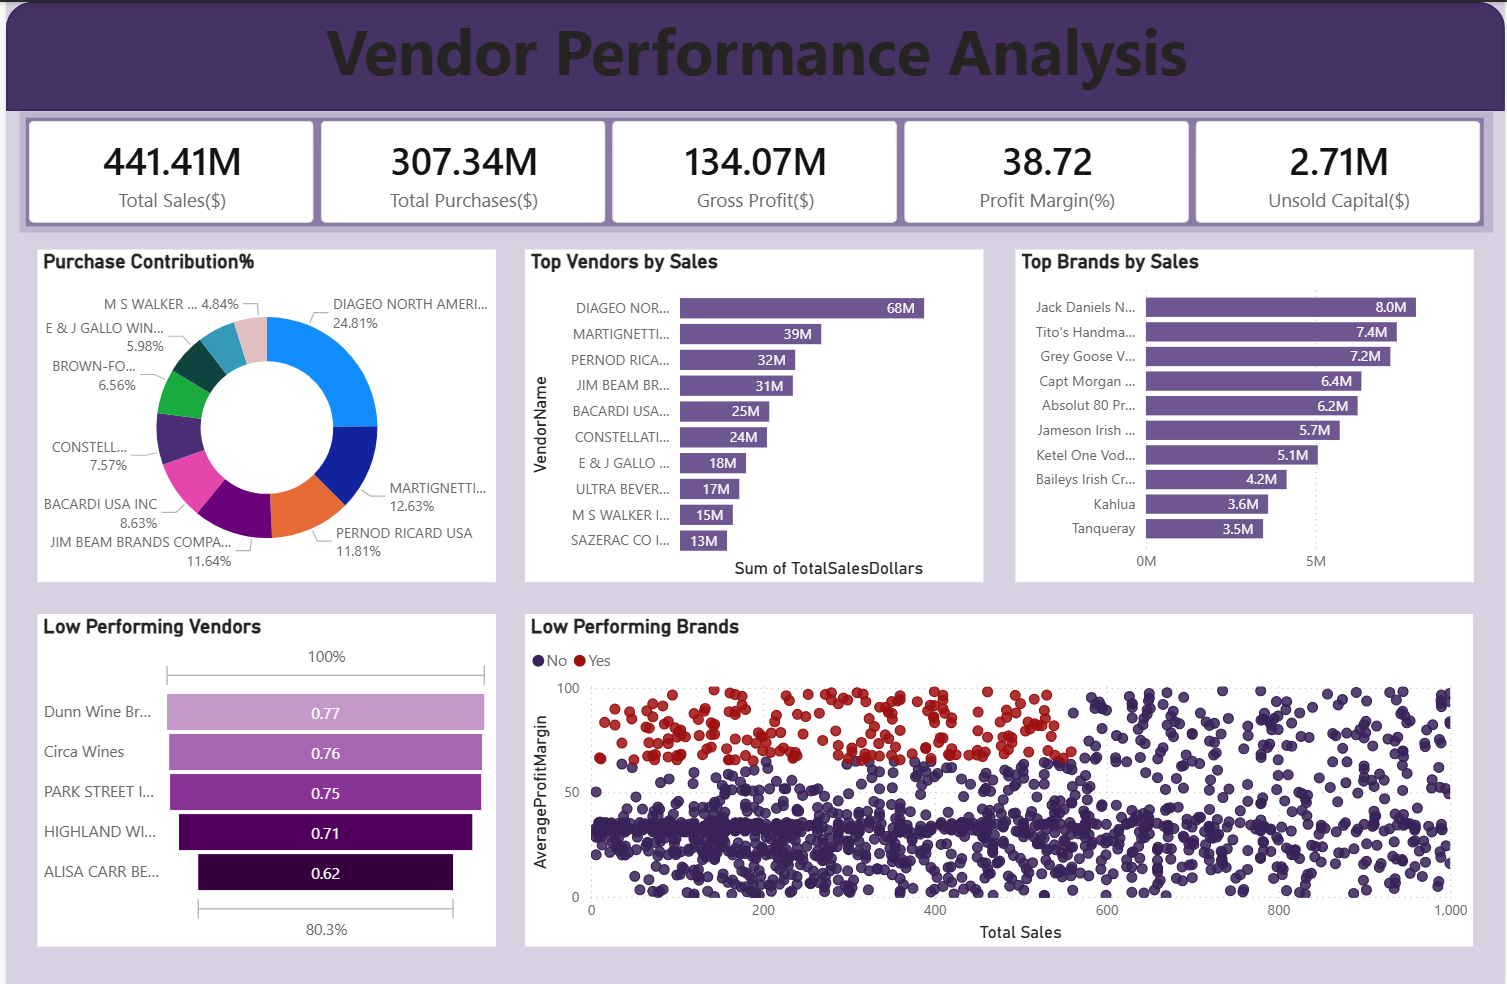

The dashboard page shown, as its layout file describes it:
{"tool":"powerbi","page":{"name":"Page 1","canvas":[1280,840],"ordinal":0},"visuals":[{"type":"cardVisual","fields":{"Data":["Sum(vendor_sales_summary.TotalSalesDollars)","Sum(vendor_sales_summary.TotalPurchaseDollars)","Sum(vendor_sales_summary.GrossProfit)","Avg(vendor_sales_summary.ProfitMargin)","Sum(vendor_sales_summary.UnsoldCapital)"]},"box":[11.5,93.3,1258,103.4],"z":0},{"type":"shape","box":[0,0,1279.6,93],"z":1000},{"type":"textbox","box":[27.8,0,1225.2,93],"z":2000},{"type":"donutChart","title":"Purchase Contribution% ","fields":{"Y":["Sum(PurchaseContribution.PurchaseContribution%)"],"Category":["PurchaseContribution.VendorName"]},"box":[27.4,211.3,391,284],"z":3000},{"type":"clusteredBarChart","title":"Top Vendors by Sales","fields":{"Category":["vendor_sales_summary.VendorName"],"Y":["Sum(vendor_sales_summary.TotalSalesDollars)"]},"box":[443.1,211.3,391,284],"z":4000},{"type":"clusteredBarChart","title":"Top Brands by Sales ","fields":{"Category":["vendor_sales_summary.Description"],"Y":["Sum(vendor_sales_summary.TotalSalesDollars)"]},"box":[861.6,211.3,391,284],"z":5000},{"type":"funnel","title":"Low Performing Vendors","fields":{"Category":["LowTurnoverVendor.VendorName"],"Y":["Avg(LowTurnoverVendor.AverageStockTurnover)"]},"box":[27.4,522.7,391,284],"z":6000},{"type":"scatterChart","title":"Low Performing Brands","fields":{"Category":["BrandPerformance.Description"],"X":["Sum(BrandPerformance.TotalSales)"],"Series":["BrandPerformance.TargetBrand"],"Y":["Avg(BrandPerformance.AverageProfitMargin)"]},"box":[443.1,522.7,809.5,284],"z":7000}]}

Visuals, with their boxes in screenshot pixels (x1, y1, x2, y2), scaled from the page's 1280x840 canvas onto the 1507x984 screenshot:
cardVisual - Sum(vendor_sales_summary.TotalSalesDollars) x Sum(vendor_sales_summary.TotalPurchaseDollars): box=[14, 109, 1495, 230]
shape: box=[0, 0, 1506, 109]
textbox: box=[33, 0, 1475, 109]
"Purchase Contribution% " donutChart: box=[32, 248, 493, 580]
"Top Vendors by Sales" clusteredBarChart: box=[522, 248, 982, 580]
"Top Brands by Sales " clusteredBarChart: box=[1014, 248, 1475, 580]
"Low Performing Vendors" funnel: box=[32, 612, 493, 945]
"Low Performing Brands" scatterChart: box=[522, 612, 1475, 945]
